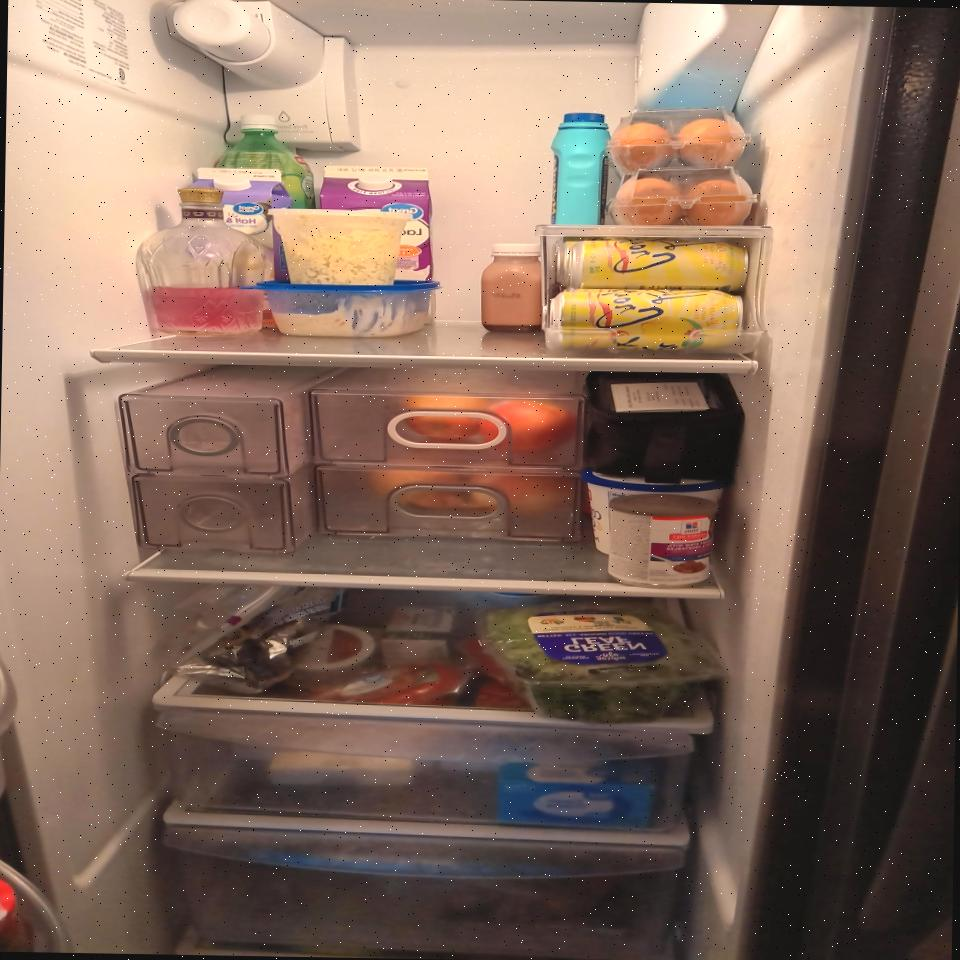Huevos: (604, 104, 754, 176), (605, 164, 760, 228)
Manzana: (481, 398, 576, 455), (401, 393, 485, 442)
